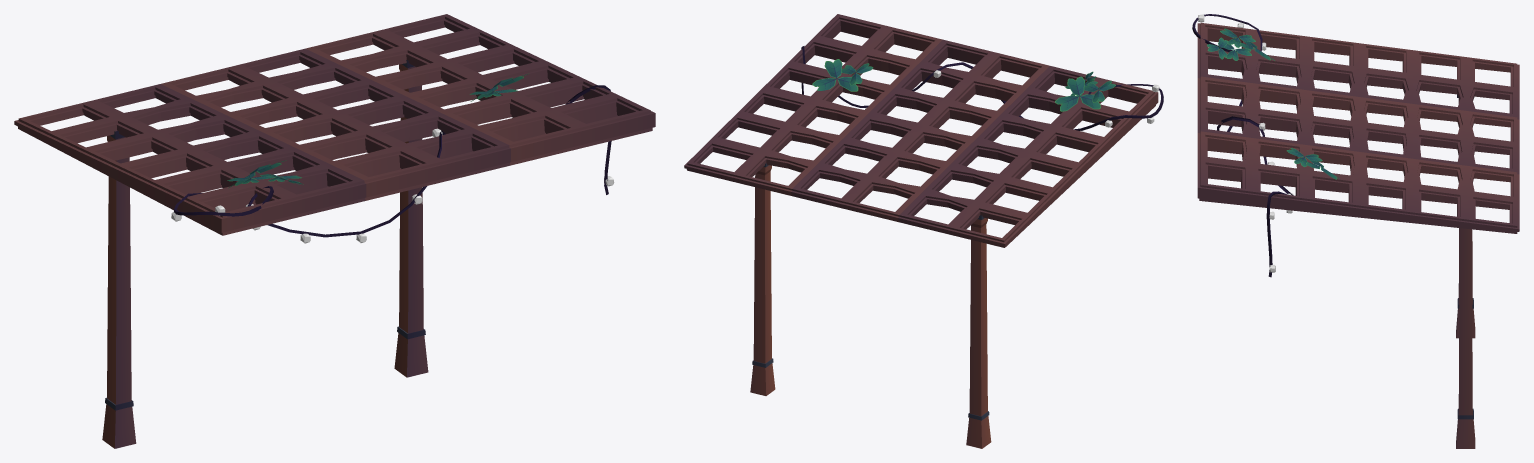
The model's file is Prop_Lattice_White.fbx.
The picture shows the model from 3 angles, left to right: view 1: azimuth 30°, elevation 25°; view 2: azimuth 150°, elevation 25°; view 3: azimuth 270°, elevation 25°; orthographic projection. The views are drawn at different scales.
Visible parts, largest first — view 1: LightLattice; view 2: LightLattice; view 3: LightLattice.
Boxes of the visible parts, x1,y1,x2,y2 form: LightLattice: [14, 14, 655, 448]; LightLattice: [684, 14, 1163, 448]; LightLattice: [1192, 14, 1519, 448].
Bounding box in the file's own units: 255 × 203 × 202.
